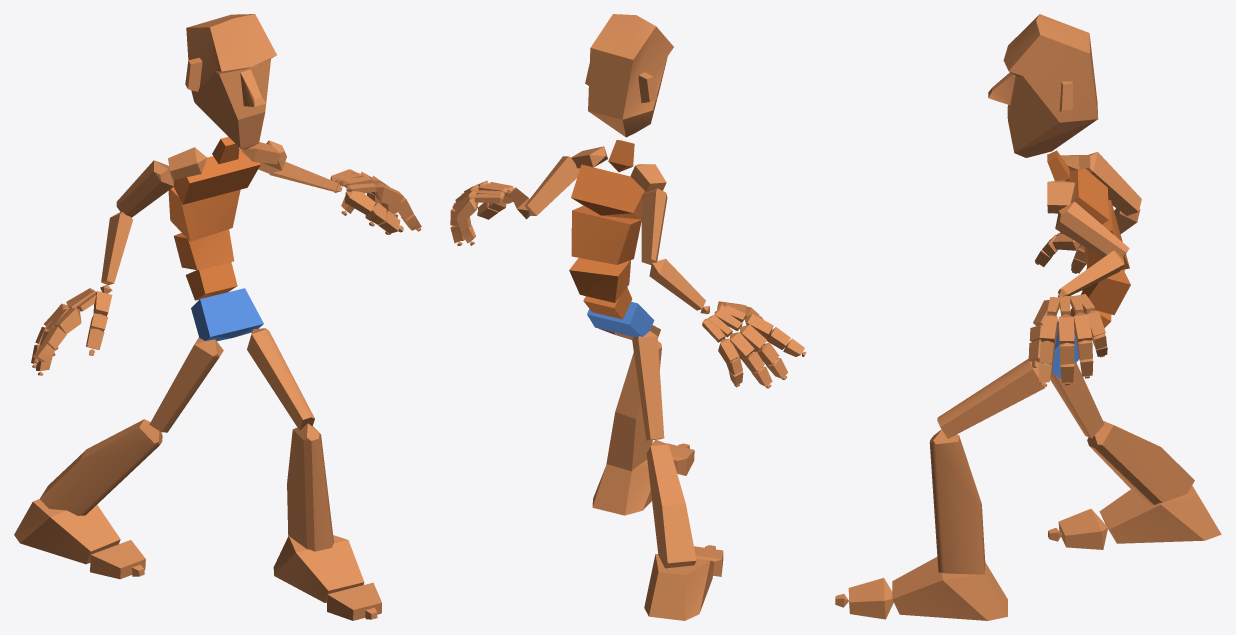
The picture shows the model from 3 angles, left to right: view 1: azimuth 30°, elevation 25°; view 2: azimuth 150°, elevation 25°; view 3: azimuth 270°, elevation 25°; orthographic projection. The views are drawn at different scales.
Parts seen in each view (by area): view 1: BOPED_Head, BOPED_R_leg, BOPED_L_leg, BOPED_R_foot, BOPED_R_foot01, Bone01, BOPED_L_legup, BOPED_R_legup, Bone04, Bone05, Bone03, BOPED_R_arm_upper (+7 smaller); view 2: BOPED_Head, BOPED_R_leg, BOPED_R_foot, Bone04, BOPED_L_leg, Bone05, BOPED_R_foot01, BOPED_R_legup, Bone03, BOPED_R_arm_upper, BOPED_L_arm_upper, Bone01 (+7 smaller); view 3: BOPED_Head, BOPED_L_leg, BOPED_R_foot01, BOPED_R_foot, BOPED_R_leg, BOPED_L_legup, BOPED_L_arm_upper, BOPED_R_legup, BOPED_R_foot_toe01, BOPED_R_arm_upper, BOPED_R_foot_toe04, Bone05 (+4 smaller).
Part boxes in pixels (<box>): BOPED_Head: <box>185,14,276,149</box>; BOPED_R_leg: <box>40,419,162,515</box>; BOPED_L_leg: <box>287,423,333,551</box>; BOPED_R_foot: <box>14,499,120,564</box>; BOPED_R_foot01: <box>273,535,364,602</box>; Bone01: <box>191,288,263,341</box>; BOPED_L_legup: <box>247,328,314,430</box>; BOPED_R_legup: <box>149,337,223,432</box>; Bone04: <box>168,187,240,241</box>; Bone05: <box>174,149,260,204</box>; Bone03: <box>174,229,234,270</box>; BOPED_R_arm_upper: <box>116,160,173,217</box>; BOPED_Head: <box>585,14,673,137</box>; BOPED_R_leg: <box>646,439,696,568</box>; BOPED_R_foot: <box>644,554,714,620</box>; Bone04: <box>571,206,641,264</box>; BOPED_L_leg: <box>606,341,661,471</box>; Bone05: <box>571,164,646,219</box>; BOPED_R_foot01: <box>592,459,678,515</box>; BOPED_R_legup: <box>632,331,664,440</box>; Bone03: <box>569,258,630,302</box>; BOPED_R_arm_upper: <box>641,188,667,264</box>; BOPED_L_arm_upper: <box>525,156,579,215</box>; Bone01: <box>587,302,654,337</box>; BOPED_Head: <box>988,14,1098,157</box>; BOPED_L_leg: <box>929,429,985,575</box>; BOPED_R_foot01: <box>892,557,1007,620</box>; BOPED_R_foot: <box>1099,485,1221,543</box>; BOPED_R_leg: <box>1087,421,1194,504</box>; BOPED_L_legup: <box>937,358,1045,438</box>; BOPED_L_arm_upper: <box>1055,201,1129,257</box>; BOPED_R_legup: <box>1050,362,1104,438</box>; BOPED_R_foot_toe01: <box>1058,509,1107,549</box>; BOPED_R_arm_upper: <box>1085,152,1141,215</box>; BOPED_R_foot_toe04: <box>848,578,893,619</box>; Bone05: <box>1068,168,1108,224</box>.
Bounding box in the file's own units: 130 × 178 × 110.
